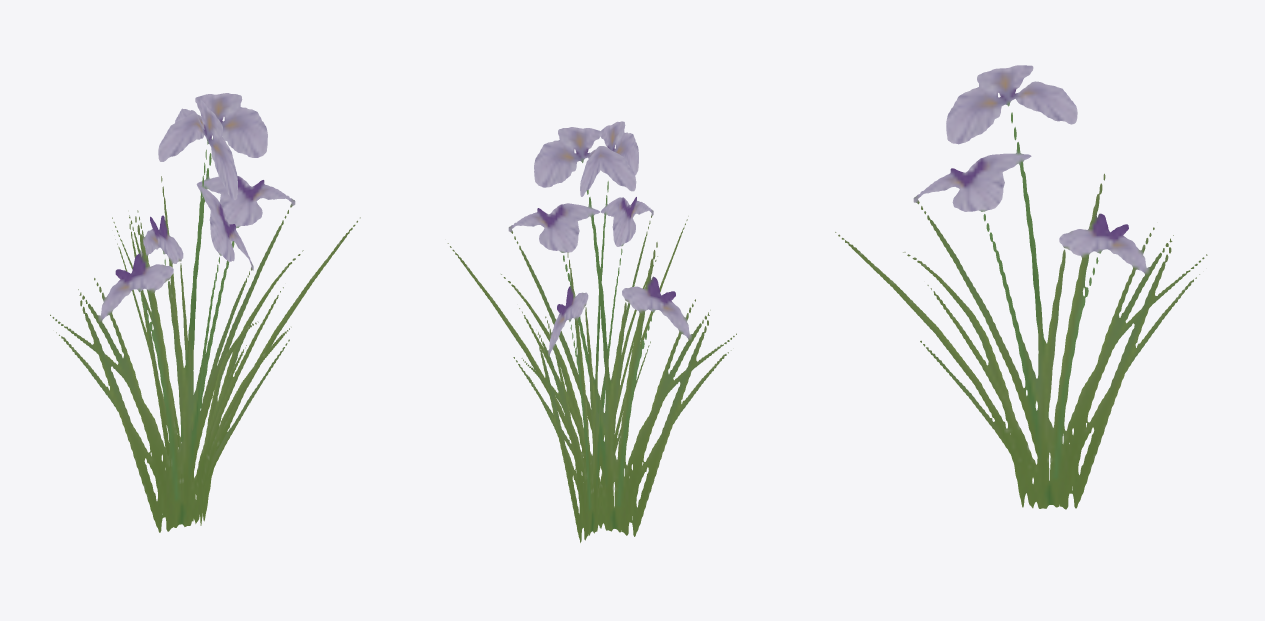
File: SM_EastLands_Iris_02.fbx
3 views of the same model, side by side, from view 1: azimuth 30°, elevation 25°; view 2: azimuth 150°, elevation 25°; view 3: azimuth 270°, elevation 25° (orthographic). The views are drawn at different scales.
Visible parts, largest first — view 1: SM_EastLands_Iris_02_LOD2; view 2: SM_EastLands_Iris_02_LOD2; view 3: SM_EastLands_Iris_02_LOD2.
Part boxes in pixels (x1=…): SM_EastLands_Iris_02_LOD2: x1=50, y1=93, x2=360, y2=532; SM_EastLands_Iris_02_LOD2: x1=447, y1=121, x2=736, y2=542; SM_EastLands_Iris_02_LOD2: x1=835, y1=65, x2=1207, y2=509.
Size of the model in its own units: 129 by 156 by 129.
